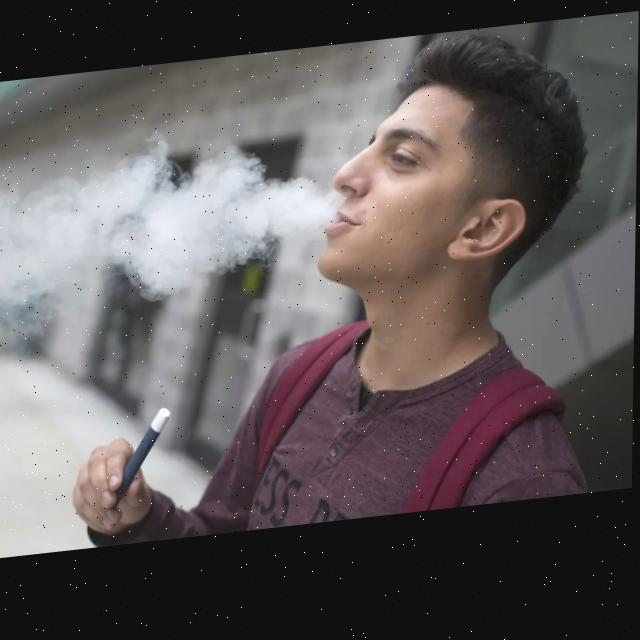vape: (115, 410, 172, 510)
